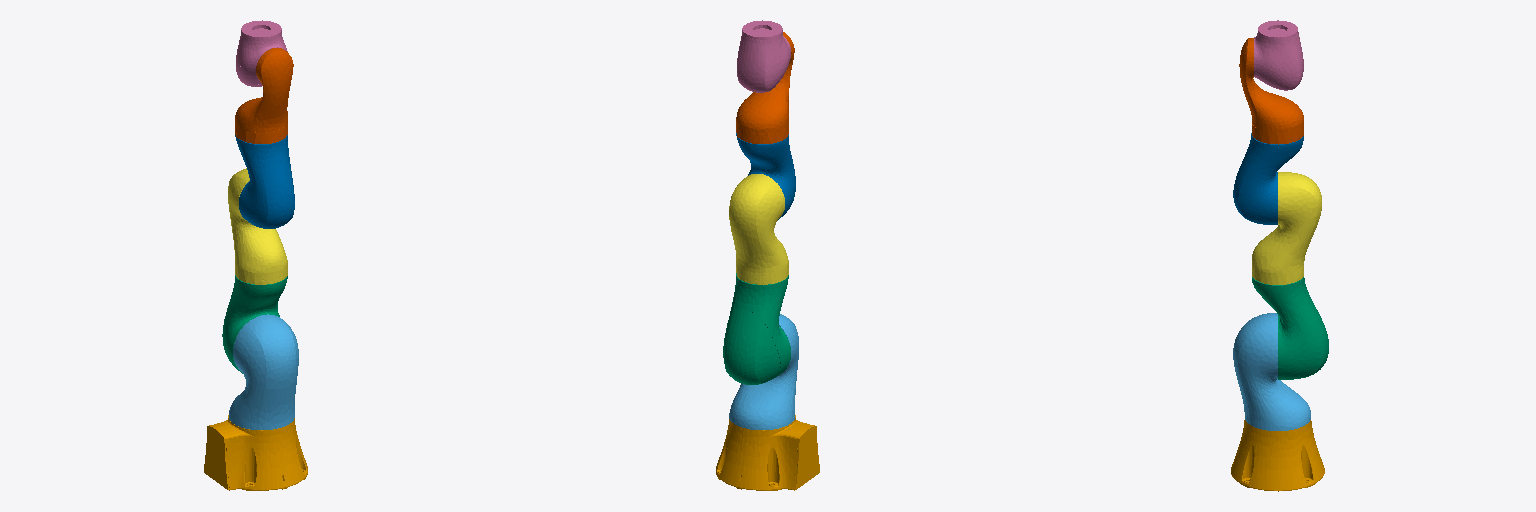
The robot description file, URDF, robot "KUKAiiwa14":
<?xml version="1.0" ?>
<!-- URDF of the KUKA iiwa 14 robot generated by robcogen and extended manually -->
<!-- Added inertias and other properties by hand.                               -->
<robot name="KUKAiiwa14">

  <link name="iiwaBase">
    <inertial>
      <origin xyz="0.00000 0.00000 0.00000"/>
      <mass value="8.00000"/>
      <inertia ixx="0.00095" iyy="0.00133" izz="0.00118" ixy="0.00000" ixz="-0.00000" iyz="-0.00006"/>
    </inertial>
    <visual>
      <origin xyz="0.0 0.0 0.0" rpy="0.0 0.0 0.0" />            
      <geometry>
        <mesh filename="package://robot_properties_iiwa/meshes/iiwa14_base.stl" scale="0.001 0.001 0.001" />
      </geometry>
    </visual>    
  </link>


  <joint name="A1" type="revolute">
    <origin xyz="0.00000 0.00000 0.15750" rpy="0.0 0.0 0.0"/>
    <parent link="iiwaBase"/>
    <child  link="L1"/>
    <limit effort="30" velocity="1.0"/>
    <axis xyz="0 0 1"/>
  </joint>


  <link name="L1">
    <inertial>
      <origin xyz="0.00000 0.00000 0.00000"/>
      <mass value="4.00000"/>
      <inertia ixx="0.00095" iyy="0.00133" izz="0.00118" ixy="0.00000" ixz="-0.00000" iyz="-0.00006"/>
    </inertial>
    <visual>
      <origin xyz="0.0 0.0 0.0" rpy="0.0 0.0 0.0"/>
      <geometry>
	      <mesh filename="package://robot_properties_iiwa/meshes/iiwa14_link1.stl" scale="0.001 0.001 0.001" />
      </geometry>
    </visual>
  </link>  


  <joint name="A2" type="revolute">
    <origin xyz="0.00000 0.00000 0.20250" rpy="2.3561944901923457 -1.5707962635746238 2.3561944901923457"/>
    <parent link="L1"/>
    <child  link="L2"/>
    <limit effort="30" velocity="1.0"/>
    <axis xyz="0 0 1"/>
  </joint>


  <link name="L2">
    <inertial>
      <origin xyz="0.20920 -0.00010 0.04730"/>
      <mass value="4.00000"/>
      <inertia ixx="0.00145" iyy="0.00986" izz="0.00951" ixy="-0.00000" ixz="0.00096" iyz="-0.00000"/>
    </inertial>
    <visual>
      <origin xyz="0.0 0.0 0.0" rpy="0.0 0.0 0.0"/>
      <geometry>
	      <mesh filename="package://robot_properties_iiwa/meshes/iiwa14_link2.stl" scale="0.001 0.001 0.001" />
      </geometry>
    </visual>
  </link>


  <joint name="A3" type="revolute">
    <origin xyz="0.20450 0.00000 0.00000" rpy="1.5707963267948948 -4.371139000186238E-8 1.5707963705062866"/>
    <parent link="L2"/>
    <child  link="L3"/>
    <limit effort="30" velocity="1.0"/>
    <axis xyz="0 0 1"/>
  </joint>


  <link name="L3">
    <inertial>
      <origin xyz="0.20920 0.00010 -0.04730"/>
      <mass value="4.00000"/>
      <inertia ixx="0.00145" iyy="0.00986" izz="0.00951" ixy="-0.00000" ixz="-0.00096" iyz="0.00000"/>
    </inertial> 
    <visual>
      <origin xyz="0.0 0.0 0.0" rpy="0.0 0.0 0.0"/>
      <geometry>
	      <mesh filename="package://robot_properties_iiwa/meshes/iiwa14_link3.stl" scale="0.001 0.001 0.001" />
      </geometry>
    </visual>  
  </link>


  <joint name="A4" type="revolute">
    <origin xyz="0.00000 0.00000 0.21550" rpy="1.5707963705062866 -0.0 0.0"/>
    <parent link="L3"/>
    <child  link="L4"/>
    <limit effort="30" velocity="1.0"/>
    <axis xyz="0 0 1"/>
  </joint>


  <link name="L4">
    <inertial>
      <origin xyz="-0.01260 -0.00010 0.05450"/>
      <mass value="4.00000"/>
      <inertia ixx="0.00100" iyy="0.00133" izz="0.00118" ixy="0.00000" ixz="-0.00000" iyz="0.00006"/>
    </inertial>
    <visual>
      <origin xyz="0.0 0.0 0.0" rpy="0.0 0.0 0.0"/>
      <geometry>
	      <mesh filename="package://robot_properties_iiwa/meshes/iiwa14_link4.stl" scale="0.001 0.001 0.001" />
      </geometry>
    </visual>
  </link>


  <joint name="A5" type="revolute">
    <origin xyz="0.00000 0.18450 0.00000" rpy="-1.5707963705062866 0.0 -0.0"/>
    <parent link="L4"/>
    <child  link="L5"/>
    <limit effort="30" velocity="1.0"/>
    <axis xyz="0 0 1"/>
  </joint>


  <link name="L5">
    <inertial>
      <origin xyz="-0.01260 -0.00010 0.05450"/>
      <mass value="3.00000"/>
      <inertia ixx="0.00100" iyy="0.00133" izz="0.00118" ixy="0.00000" ixz="-0.00000" iyz="0.00001"/>
    </inertial>
    <visual>
      <origin xyz="0.0 0.0 0.0" rpy="0.0 0.0 0.0"/>
      <geometry>
	      <mesh filename="package://robot_properties_iiwa/meshes/iiwa14_link5.stl" scale="0.001 0.001 0.001" />
      </geometry>
    </visual>
  </link>


  <joint name="A6" type="revolute">
    <origin xyz="0.00000 -0.06070 0.21550" rpy="2.3561944901923457 -1.5707962635746238 2.3561944901923457"/>
    <parent link="L5"/>
    <child  link="L6"/>
    <limit effort="30" velocity="1.0"/>
    <axis xyz="0 0 1"/>
  </joint>
  

  <link name="L6">
    <inertial>
      <origin xyz="-0.05000 0.00400 0.12700"/>
      <mass value="2.00000"/>
      <inertia ixx="0.00354" iyy="0.00416" izz="0.00104" ixy="0.00000" ixz="-0.00000" iyz="-0.00000"/>
    </inertial>
    <visual>
      <origin xyz="0.0 0.0 0.0" rpy="0.0 0.0 0.0"/>
      <geometry>
	      <mesh filename="package://robot_properties_iiwa/meshes/iiwa14_link6.stl" scale="0.001 0.001 0.001" />
      </geometry>
    </visual>
  </link>

  
  <joint name="A7" type="revolute">
    <origin xyz="0.08100 0.00000 0.06070" rpy="1.5707963267948948 -4.371139000186238E-8 1.5707963705062866"/>
    <parent link="L6"/>
    <child  link="L7"/>
    <limit effort="30" velocity="1.0"/>
    <axis xyz="0 0 1"/>
  </joint>


  <link name="L7">
    <inertial>
      <origin xyz="-0.05000 0.00400 0.12700"/>
      <mass value="1.00000"/>
      <inertia ixx="0.00354" iyy="0.00416" izz="0.00104" ixy="0.00000" ixz="0.00000" iyz="-0.00000"/>
    </inertial>

    <visual>      
      <origin xyz="0.0 0.0 0.0" rpy="0.0 0.0 0.0"/>
      <geometry>
	      <mesh filename="package://robot_properties_iiwa/meshes/iiwa14_link7.stl" scale="0.001 0.001 0.001" />
      </geometry>
    </visual>
  </link>


  <joint name="END" type="fixed">
    <parent link="L7"/>
    <child link="contact"/>
    <!-- Joint placement -->
    <origin rpy="0 0 0" xyz="0 0.0 0.04"/>
    <!-- Limits (usefull?) -->
    <limit effort="1000" lower="-10" upper="10" velocity="1000"/>
    <!-- pybullet simulation parameters -->
    <dynamics damping="0.0" friction="0.0"/>
  </joint>


  <link name="contact">
    <!-- Modeling the contact as a tennis ball. -->
    <inertial>
      <origin rpy="0 0 0" xyz="0 0 0.0"/>
      <mass value="0.057"/>
      <inertia ixx="0.0000354" ixy="0.0" ixz="0.0" iyy="0.0000354" iyz="0.0" izz="0.0000354"/>
    </inertial>

    <visual>
      <origin rpy="0 0 0" xyz="0 0 0"/>
      <geometry>
        <!-- Using unit sphere and rescale to 6.5 cm diameter of tennis ball. -->
        <!-- TODO(skleff): Figure out if the scaling is correct to give us a 6.5 cm sphere. -->
        <mesh filename="package://robot_properties_iiwa/meshes/sphere.obj" scale="0.065 0.065 0.065"/>/>
      </geometry>
      <material name="grey">
        <color rgba="0.8 0.8 0.8 1.0"/>
      </material>
    </visual>

    <collision>
      <origin rpy="0 0 0" xyz="0 0 0"/>
      <geometry>
        <mesh filename="package://robot_properties_iiwa/meshes/sphere.obj" scale="0.065 0.065 0.065"/>/>
      </geometry>
      <material name="grey">
        <color rgba="0.8 0.8 0.8 1.0"/>
      </material>
    </collision>

    <!-- Bullet specific paramters -->
    <contact>
      <lateral_friction value="1.0"/>
      <restitution value="0.5"/>
    </contact>
  </link>


</robot>

--- What the picture shows (computed from the rendered views, not written in the file) ---
The picture shows the robot from 3 angles, left to right: view 1: azimuth 30°, elevation 25°; view 2: azimuth 150°, elevation 25°; view 3: azimuth 270°, elevation 25°; orthographic projection.
Robot: KUKAiiwa14 — 9 links, 8 joints (7 revolute, 1 fixed); root link iiwaBase; default pose: every joint at zero.
Visible links, largest first — view 1: L1, iiwaBase, L4, L5, L3, L2, L6; view 2: iiwaBase, L2, L3, L1, L6, L5, L4; view 3: L1, iiwaBase, L3, L2, L4, L5, L6.
Boxes of the visible links, x1,y1,x2,y2 form: L1: [229, 314, 298, 429]; iiwaBase: [204, 415, 307, 490]; L4: [235, 135, 294, 228]; L5: [235, 48, 293, 143]; L3: [228, 168, 287, 284]; L2: [222, 275, 287, 373]; L6: [236, 20, 287, 86]; iiwaBase: [716, 415, 819, 490]; L2: [723, 273, 790, 384]; L3: [729, 174, 788, 284]; L1: [729, 314, 798, 429]; L6: [737, 20, 790, 92]; L5: [736, 32, 794, 143]; L4: [736, 133, 795, 219]; L1: [1233, 313, 1310, 430]; iiwaBase: [1231, 420, 1324, 491]; L3: [1252, 172, 1321, 284]; L2: [1252, 277, 1328, 379]; L4: [1233, 133, 1303, 224]; L5: [1239, 38, 1303, 144]; L6: [1254, 20, 1303, 90].
Size in the robot's own frame: 0.2574 by 0.2538 by 1.26 metres.
7 mesh visuals loaded from 9 distinct referenced files (7 binary STL); not drawn: 2 (reference not matched to a file when rendering).